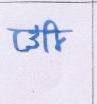i_matra: (47, 20, 64, 50)
